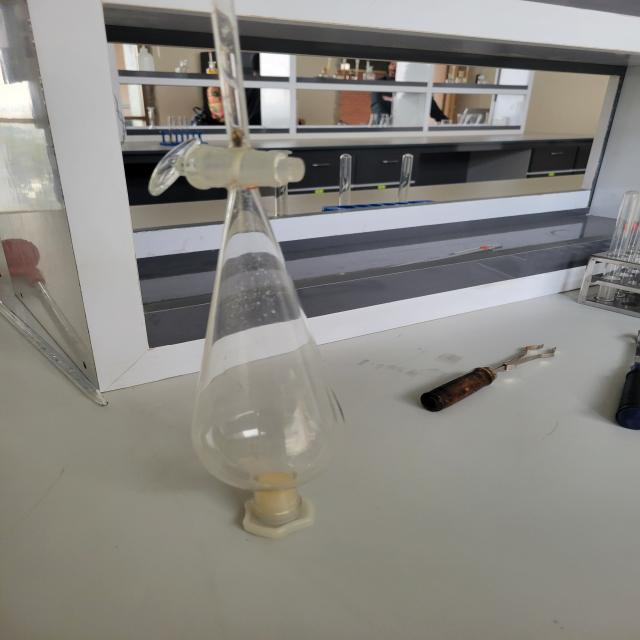Separating_Funnel: (123, 1, 404, 556)
